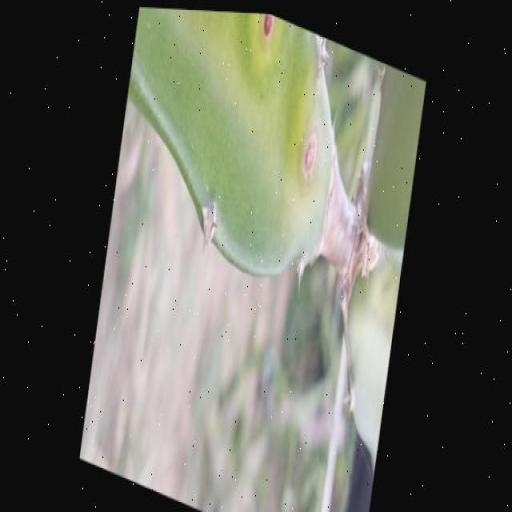stemcanker: (301, 129, 317, 182), (260, 15, 276, 45)
